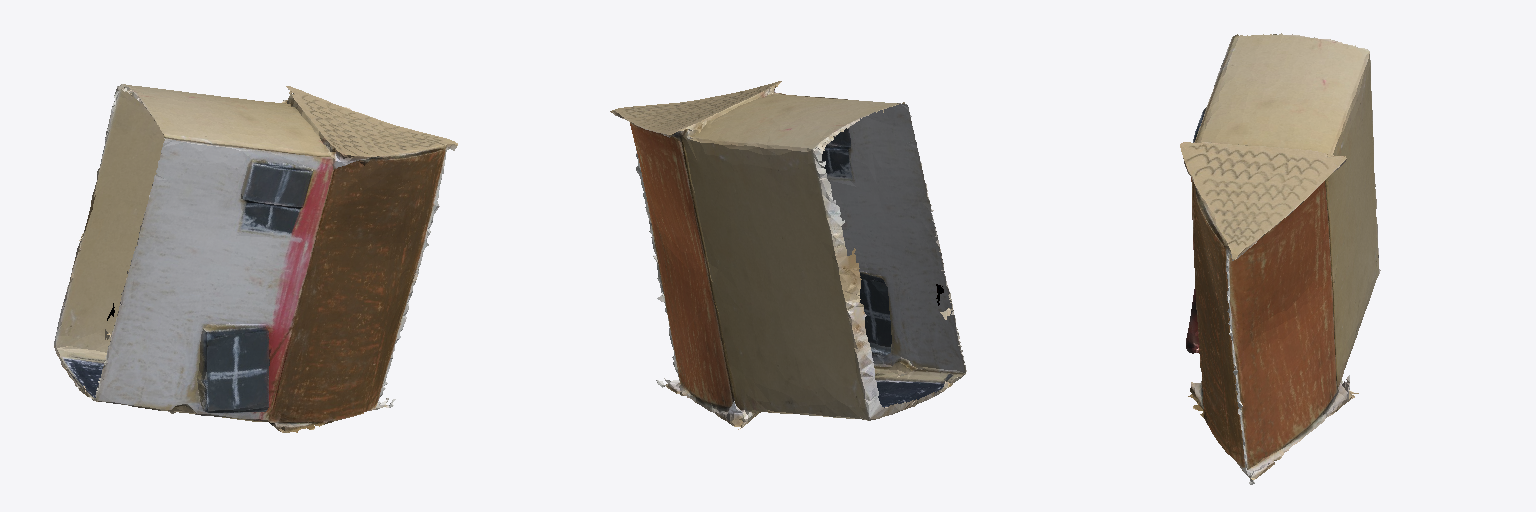
3 views of the same model, side by side, from view 1: azimuth 30°, elevation 25°; view 2: azimuth 150°, elevation 25°; view 3: azimuth 270°, elevation 25° (orthographic).
Bounding box in the file's own units: 2.43 × 2.21 × 1.17.
Materials: 1 (1 with a texture image).